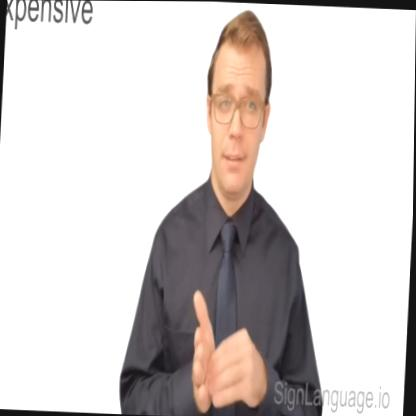Expensive: (176, 280, 274, 416)
